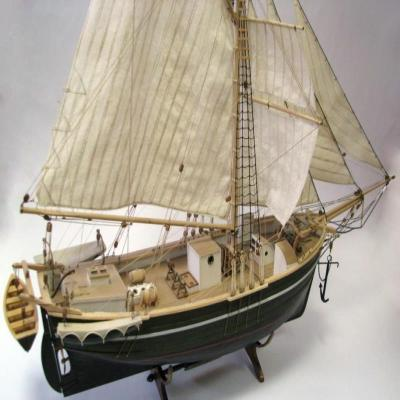other: (4, 0, 390, 400)
